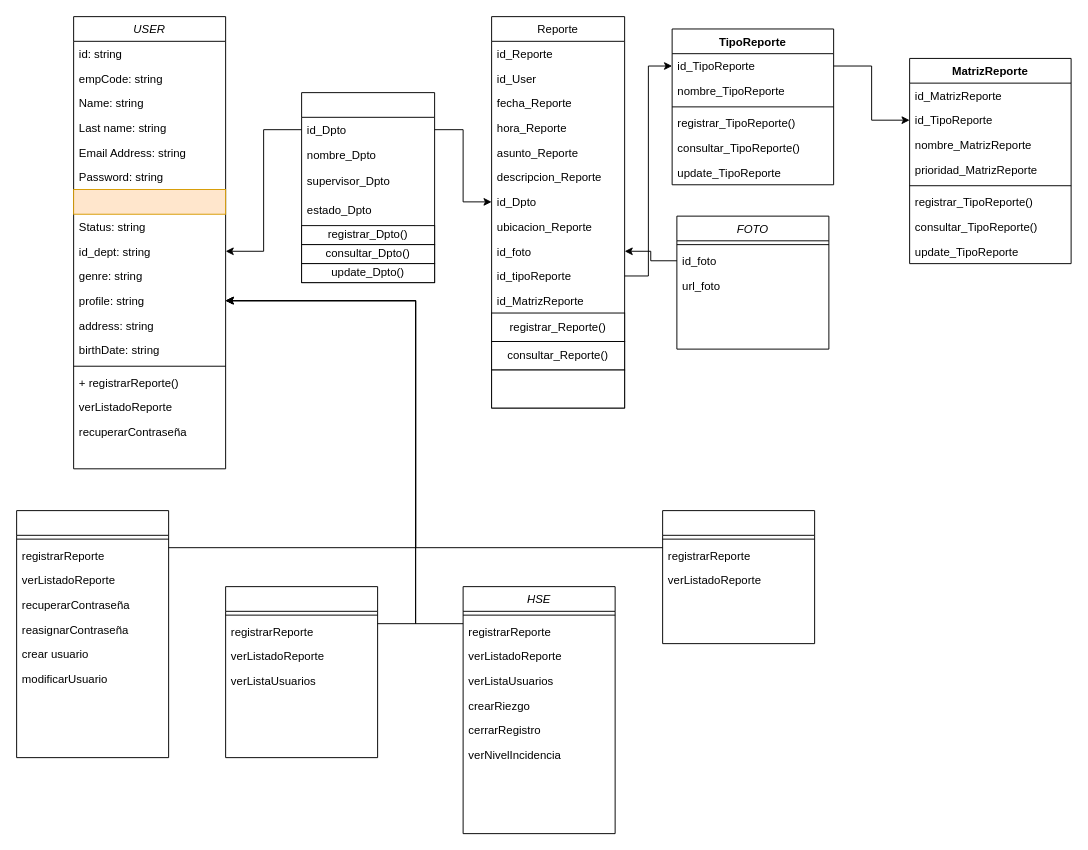
This 1088x850 diagram has some shape labels left out. The box of each missing label's shape, as (x1, y1, x2, y2) in pixels:
ADMI: (16, 510, 169, 758)
Departamento: (301, 92, 435, 283)
EMPLOYEE: (662, 510, 815, 644)
Encrypte:: (73, 189, 226, 214)
SUPERVISOR: (225, 586, 378, 758)
update_Reporte(): (491, 369, 625, 408)
